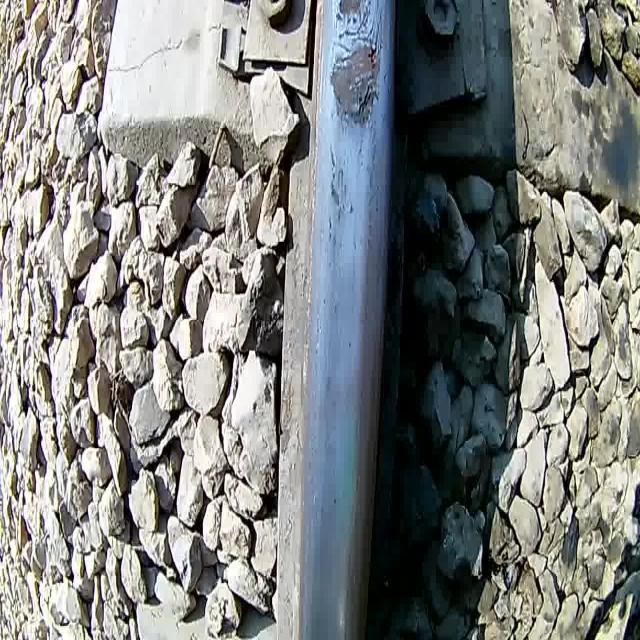Cracks: (366, 8, 386, 74)
Squats: (325, 0, 388, 137), (321, 141, 359, 256)
